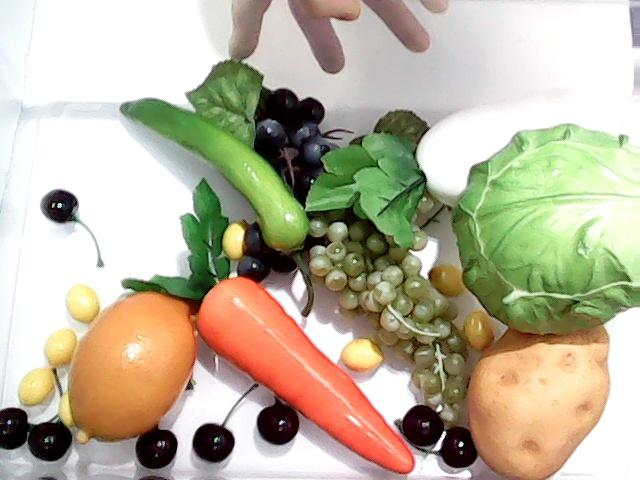cabbage: (446, 121, 640, 342)
carrot: (122, 170, 414, 474)
grape: (302, 209, 470, 427), (235, 77, 329, 280)
lemon: (64, 282, 200, 450)
pepper: (118, 92, 306, 252)
potato: (464, 315, 611, 480)
radish: (301, 90, 639, 250)
